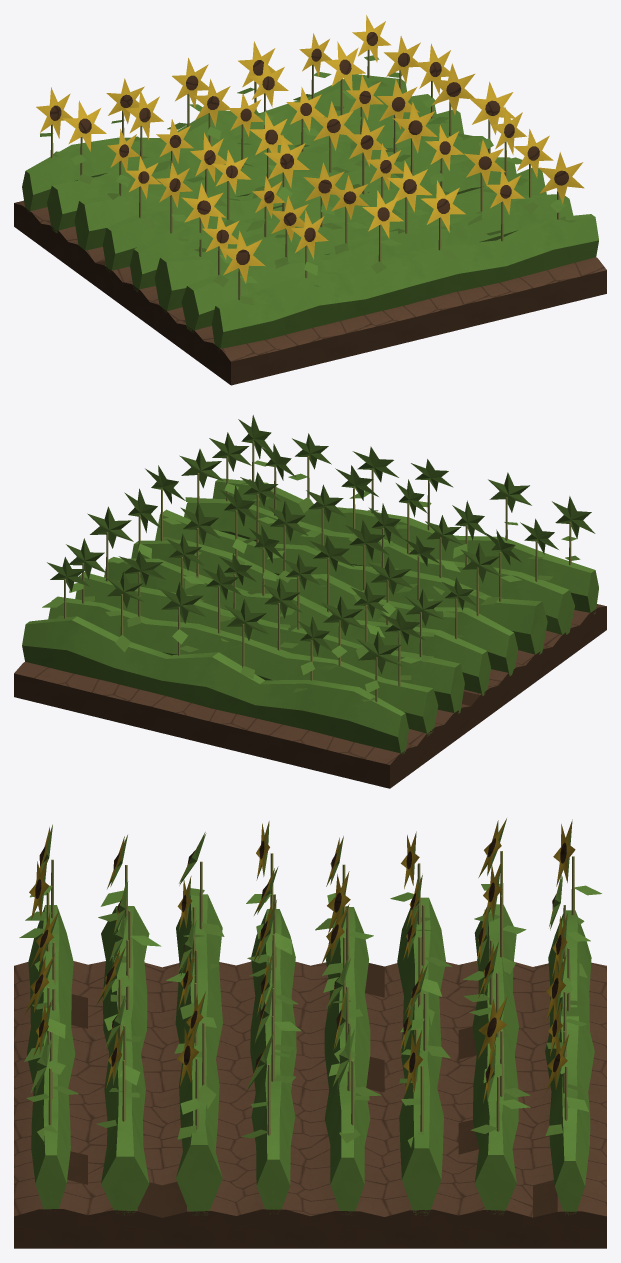
Rendered from field_sunflower.glb.
3 views of the same model, one above another, from view 1: azimuth 30°, elevation 25°; view 2: azimuth 150°, elevation 25°; view 3: azimuth 270°, elevation 25° (orthographic). The views are drawn at different scales.
Visible parts, largest first — view 1: field_sunflower; view 2: field_sunflower; view 3: field_sunflower.
Boxes of the visible parts, left/top/right/bottom form: field_sunflower: left=14, top=15, right=606, bottom=385; field_sunflower: left=14, top=415, right=606, bottom=788; field_sunflower: left=14, top=818, right=606, bottom=1248.
Size of the model in its own units: 8 by 3.02 by 8.
8 materials, 8 textured.
